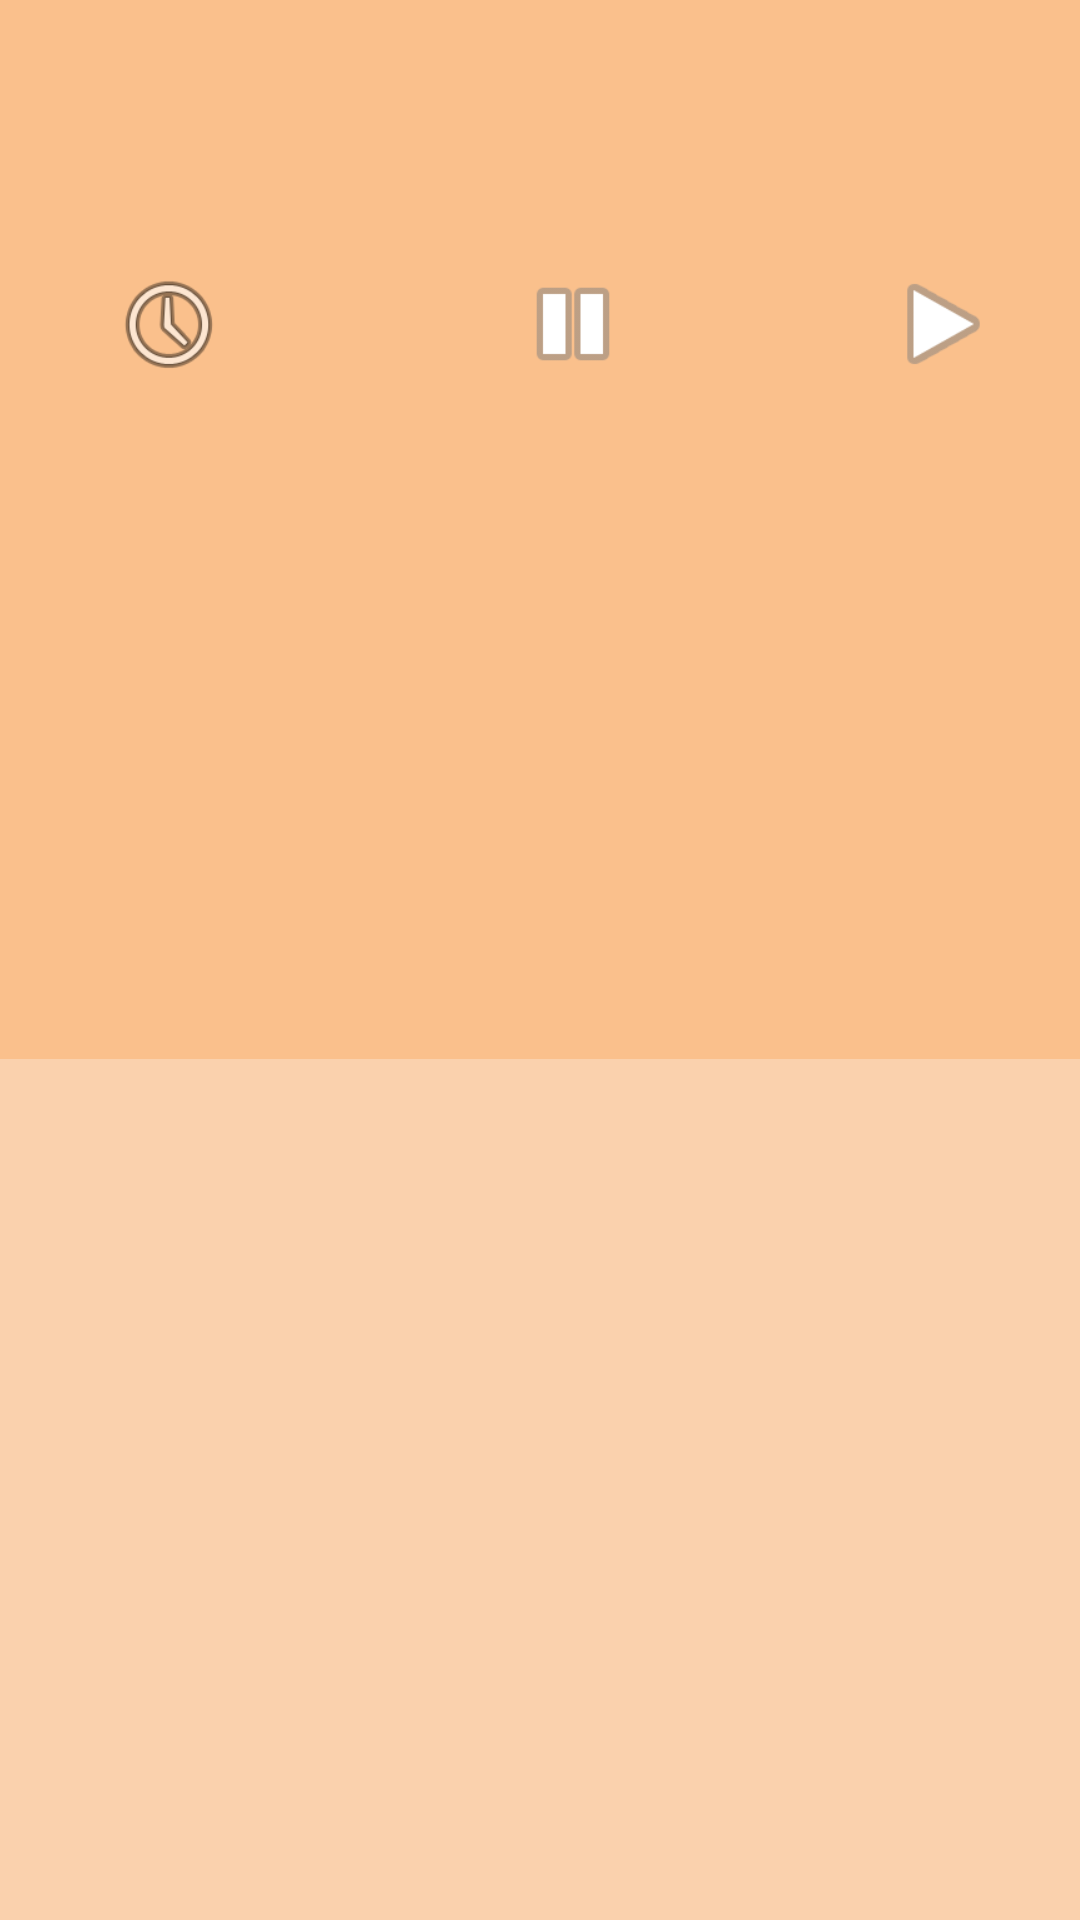

Point at icon controls on the screen. Image size 1080px×1920px, points as (x=x, y=y).
pause: (x=573, y=324)
play: (x=943, y=324)
recent history: (x=168, y=324)
